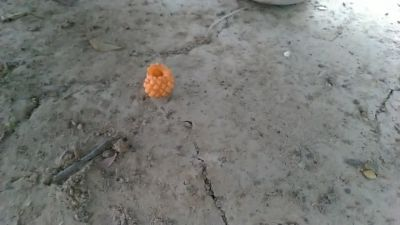eggs: (144, 65, 179, 96)
